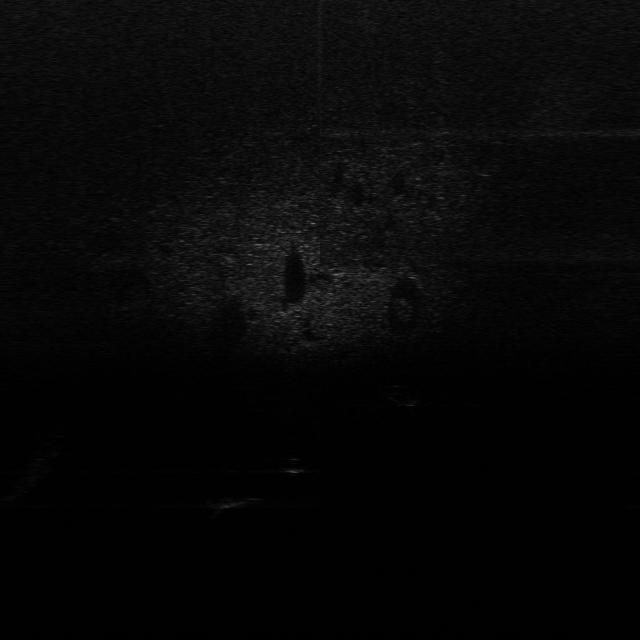ball: (284, 456, 308, 477)
square cage: (202, 492, 257, 512)
tyre: (378, 383, 423, 409)
